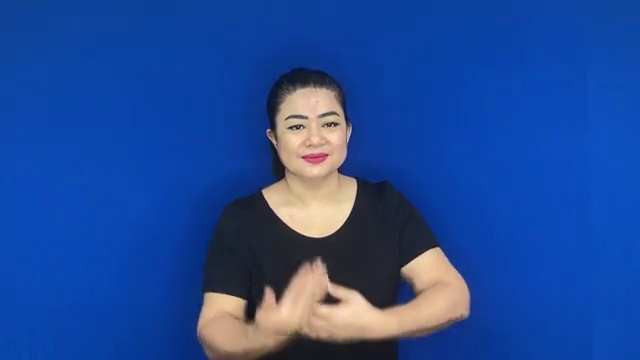bread: (251, 251, 372, 352)
